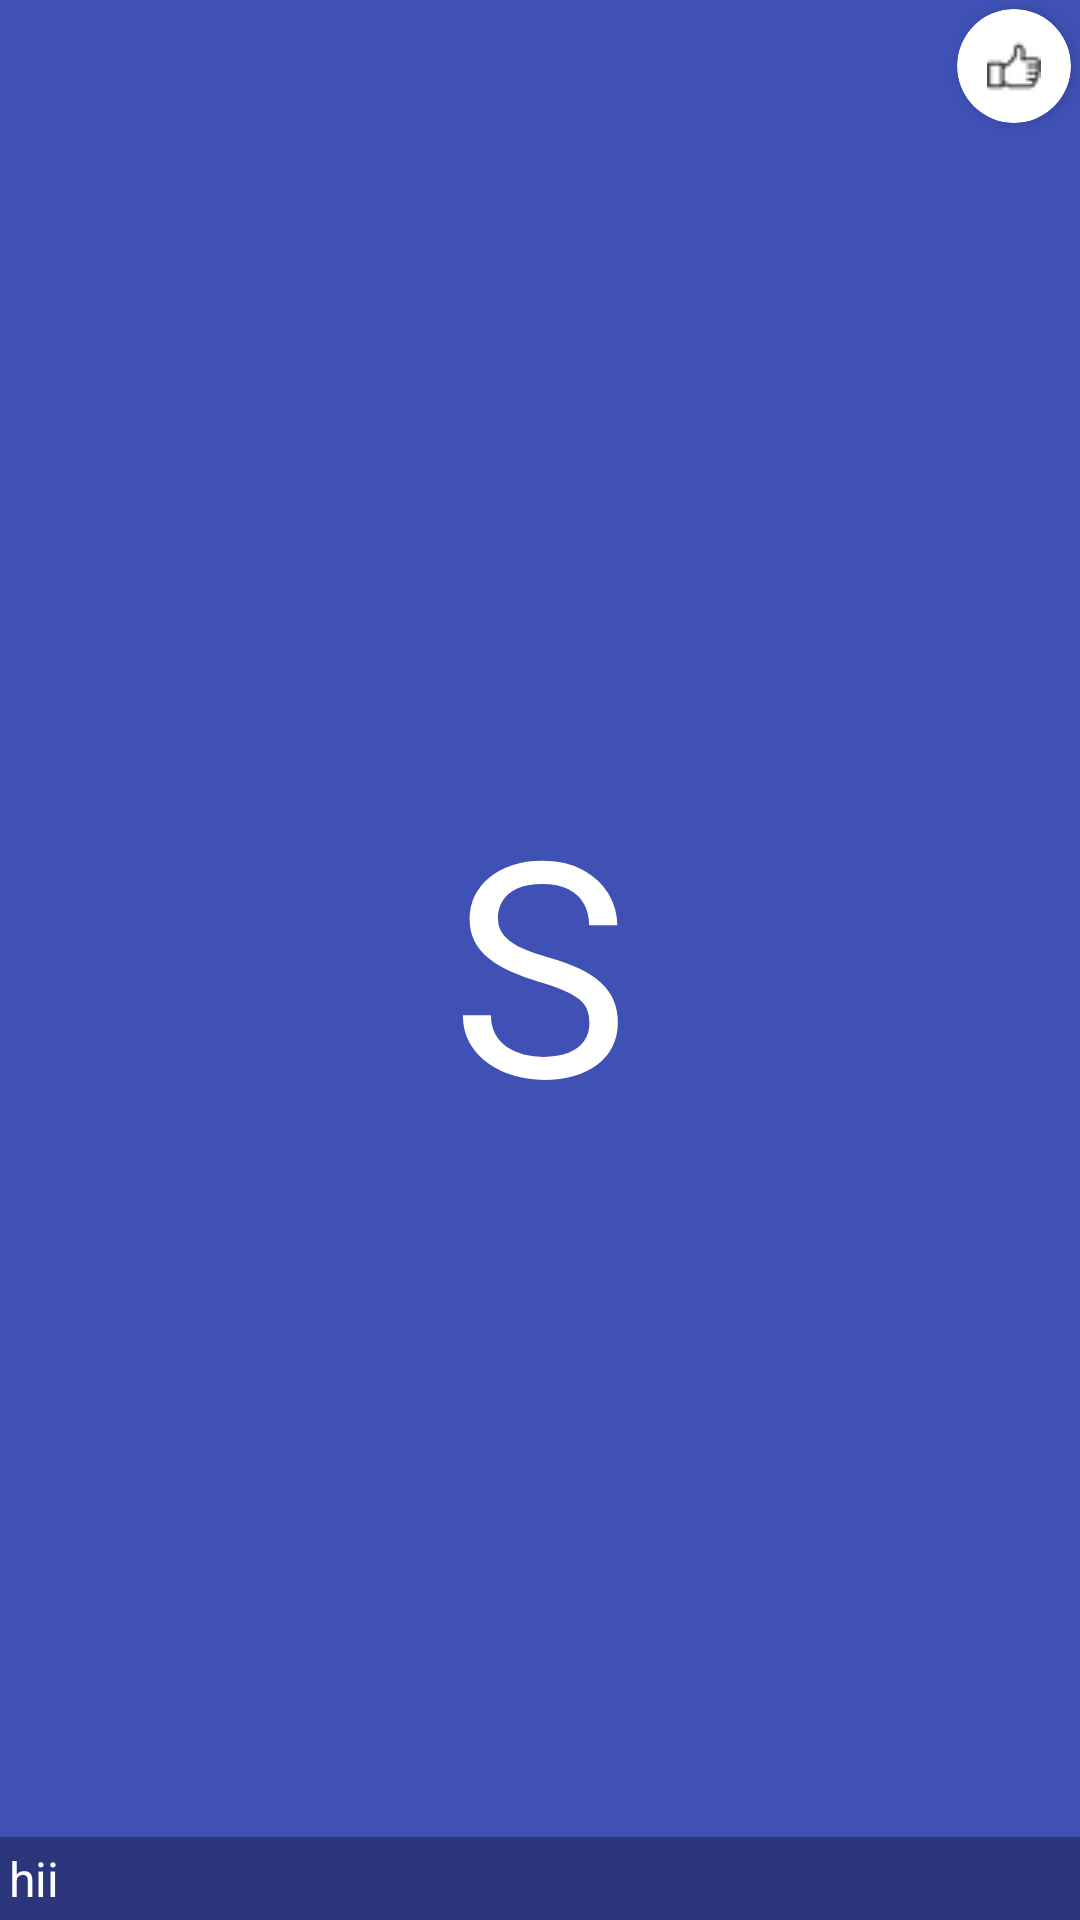

Icon bounding boxes for this 1080*1920 phone screenshot, format [left=x1, top=y1, right=x2, bottom=y2]:
like: [left=987, top=42, right=1041, bottom=90]
